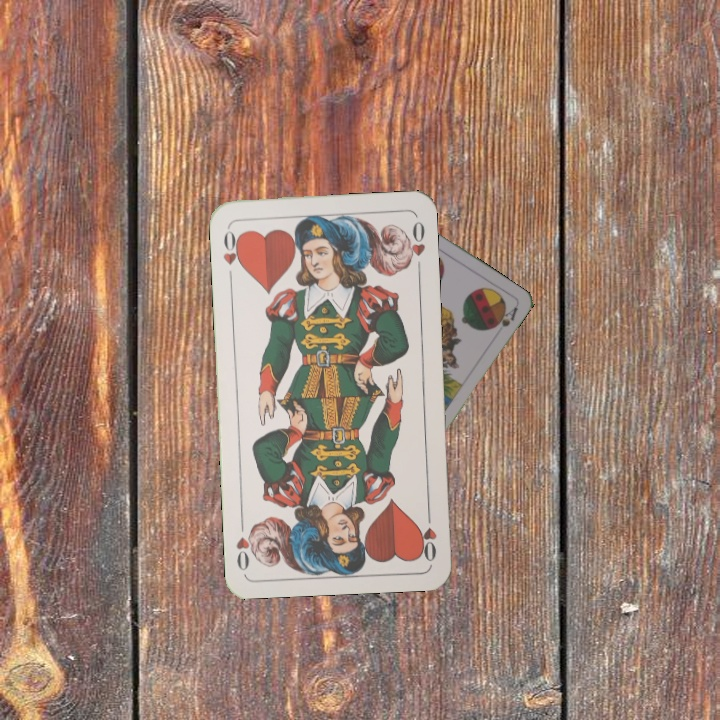HO: (219, 224, 245, 283), (415, 505, 439, 564)
